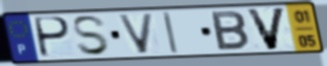B: (209, 10, 251, 53)
I: (161, 10, 181, 56)
P: (34, 15, 73, 59)
S: (70, 14, 113, 58)
V: (244, 6, 288, 52), (115, 13, 156, 56)
